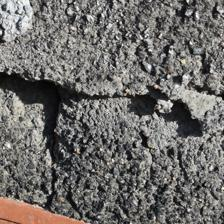Crack: (2, 32, 82, 179)
